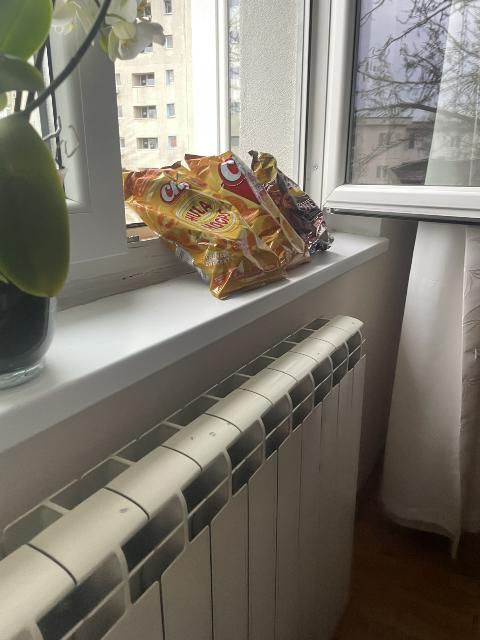Chio Cascaval 125g: (183, 146, 309, 270)
Chio Hula Hoops Cheese 70g: (113, 160, 289, 294)
Lays Beef Grilled Ribs 125g: (250, 149, 328, 256)
